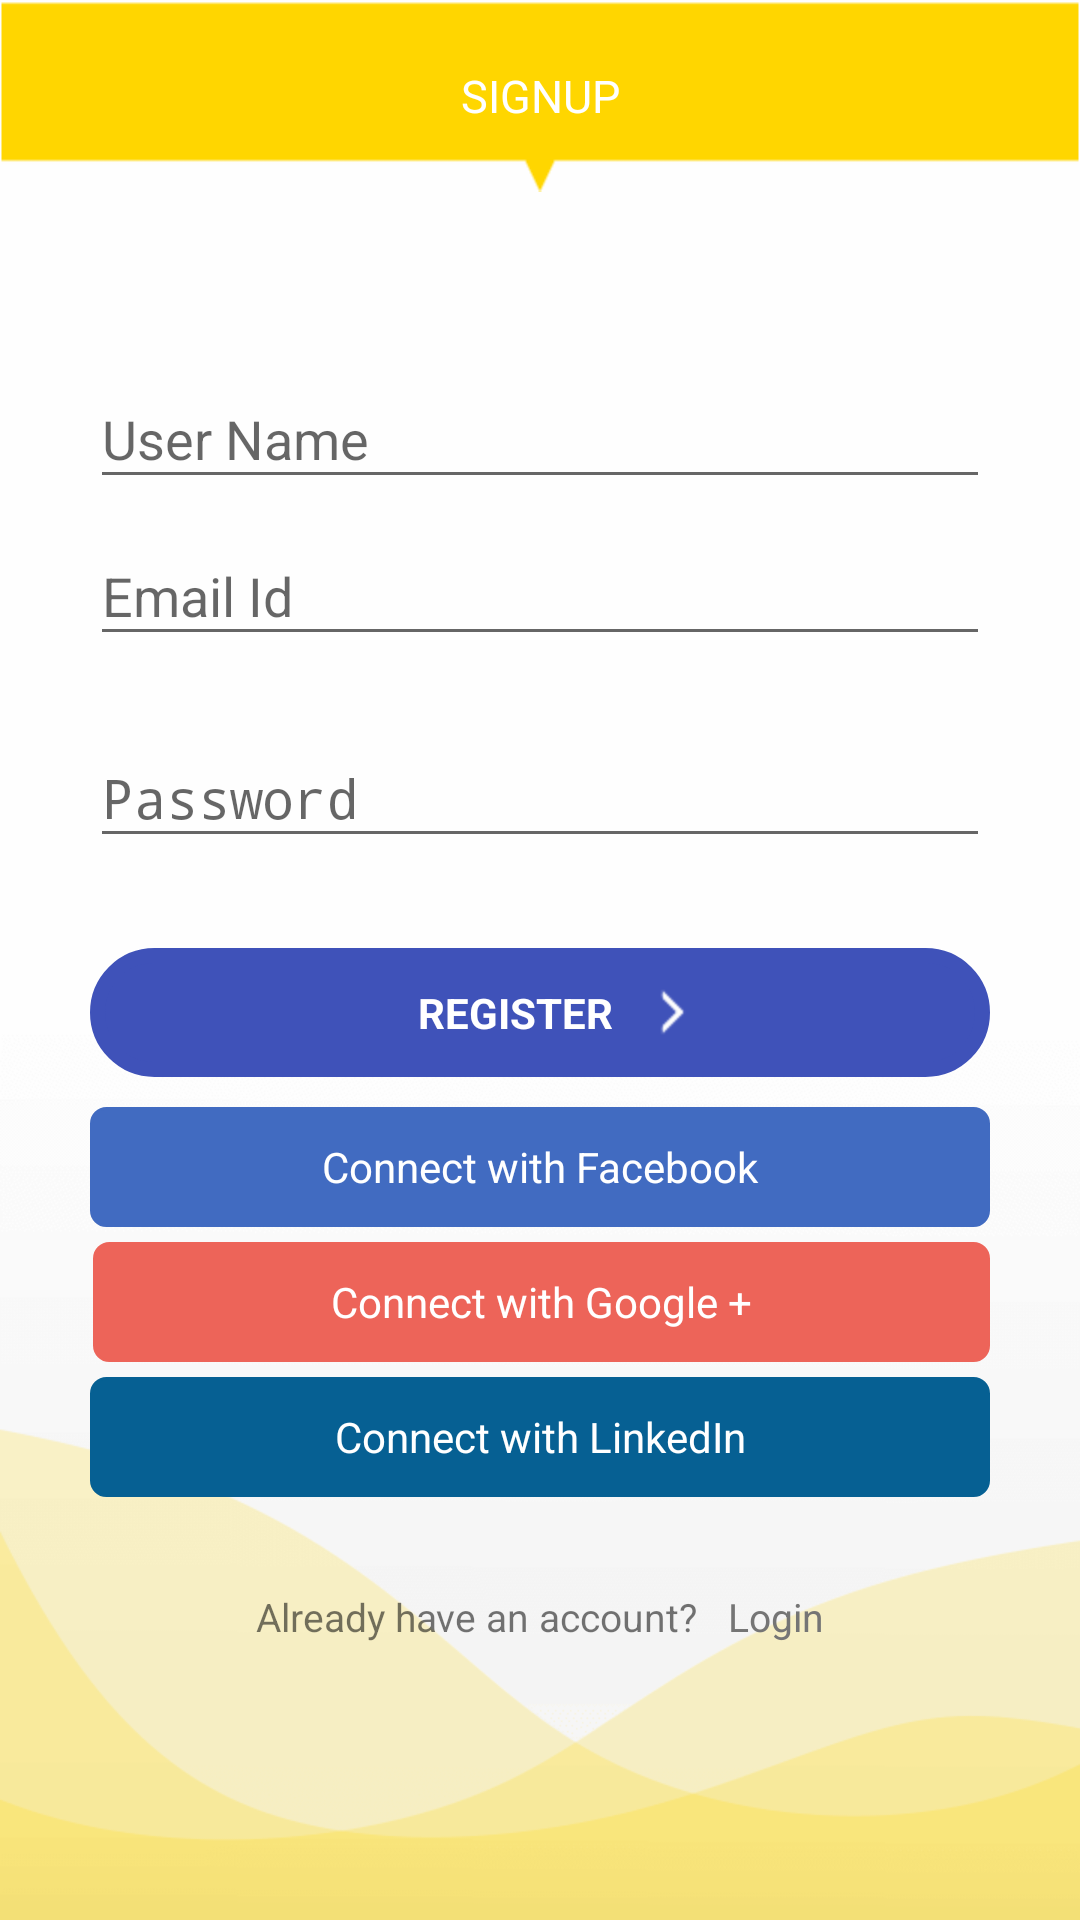

Point at icon controls on the screen. Image size 1080 x 1920, points as point (x, y).
right arrow: point (672, 1012)
